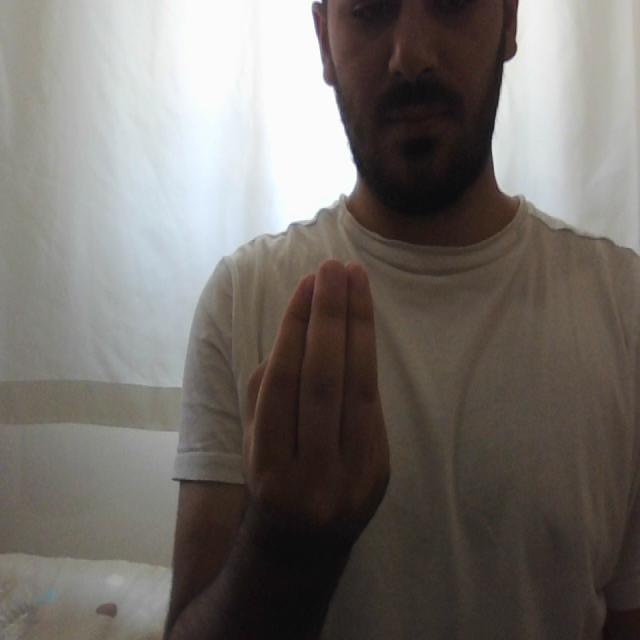iyi: (238, 249, 392, 527)
